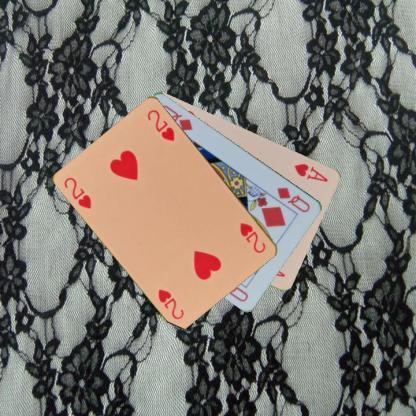2h: (61, 174, 93, 210), (238, 219, 268, 254)
Ah: (292, 161, 329, 183)
Qd: (274, 184, 312, 214)
